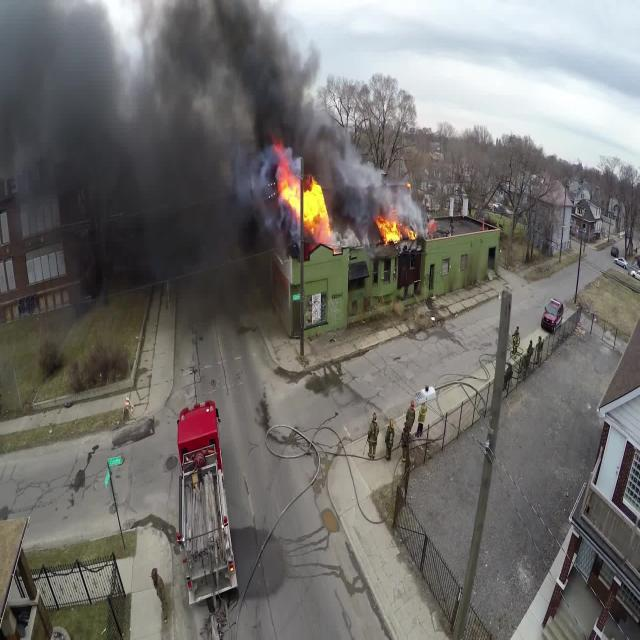Fire: (260, 144, 437, 258)
Smoke: (0, 0, 437, 310)
